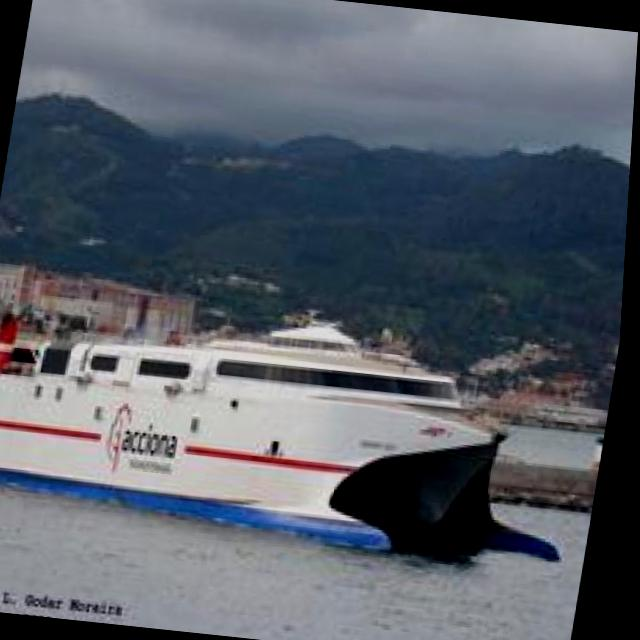ship2: (0, 313, 507, 553)
